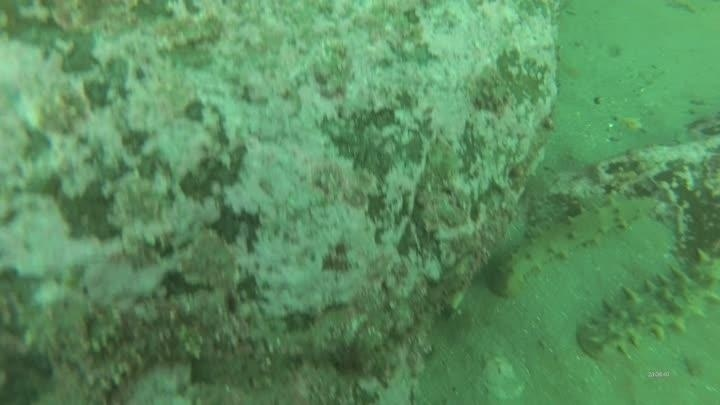holothurian: (489, 190, 658, 300), (577, 246, 720, 359)
